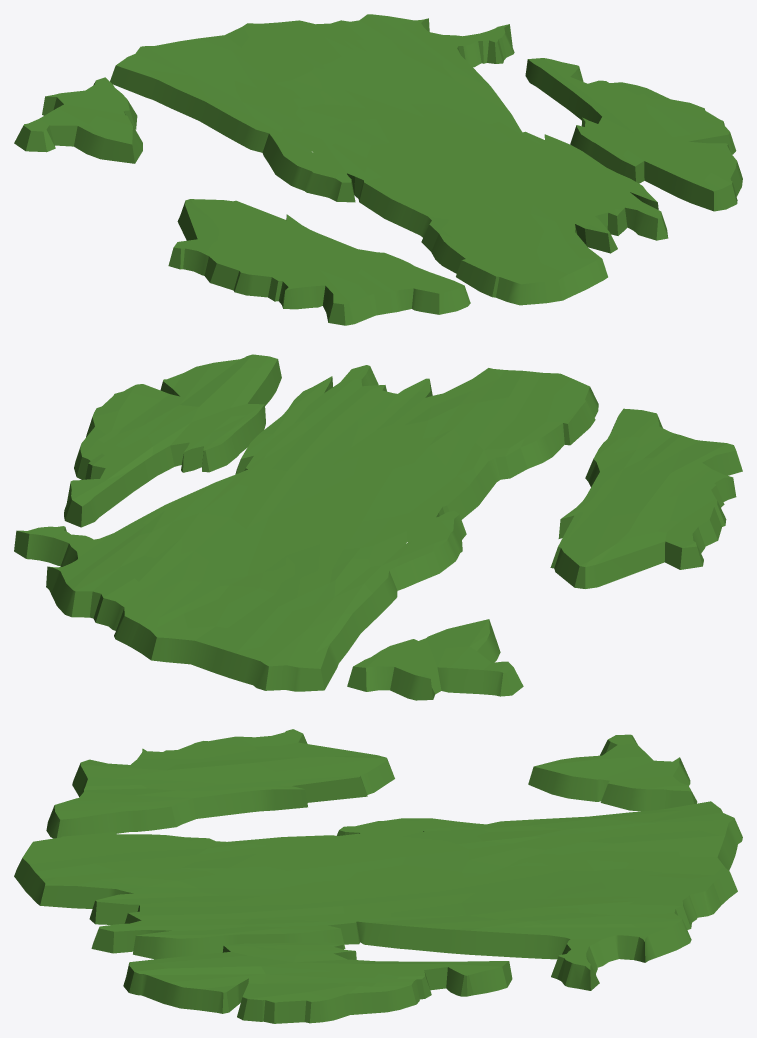
The model's file is grass_layer_block_C.fbx.
3 views of the same model, one above another, from view 1: azimuth 30°, elevation 25°; view 2: azimuth 150°, elevation 25°; view 3: azimuth 270°, elevation 25° (orthographic). The views are drawn at different scales.
Parts seen in each view (by area): view 1: grass_layer_block_C_A, grass_layer_block_C_D, grass_layer_block_C_B, grass_layer_block_C_E; view 2: grass_layer_block_C_A, grass_layer_block_C_D, grass_layer_block_C_B, grass_layer_block_C_E; view 3: grass_layer_block_C_A, grass_layer_block_C_D, grass_layer_block_C_B, grass_layer_block_C_E.
Part boxes in pixels (x1,y1,x2,y2): grass_layer_block_C_A: (110,14,668,305); grass_layer_block_C_D: (168,199,470,325); grass_layer_block_C_B: (525,58,742,211); grass_layer_block_C_E: (14,77,142,163); grass_layer_block_C_A: (14,365,598,691); grass_layer_block_C_D: (550,408,742,588); grass_layer_block_C_B: (64,354,281,527); grass_layer_block_C_E: (347,619,523,700); grass_layer_block_C_A: (14,801,742,990); grass_layer_block_C_D: (46,729,394,838); grass_layer_block_C_B: (123,942,512,1023); grass_layer_block_C_E: (528,734,697,811).
Bounding box in the file's own units: 2103 × 75.12 × 2316.
